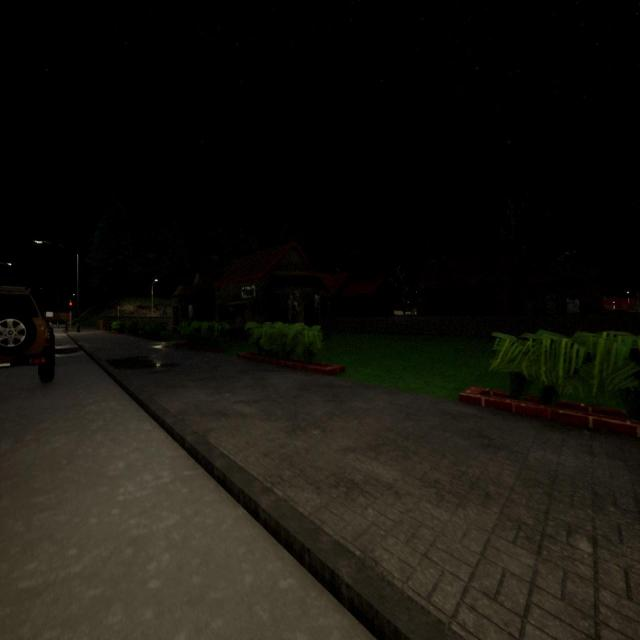Vehicle: (0, 286, 55, 383)
traffic_light: (69, 301, 73, 311)
